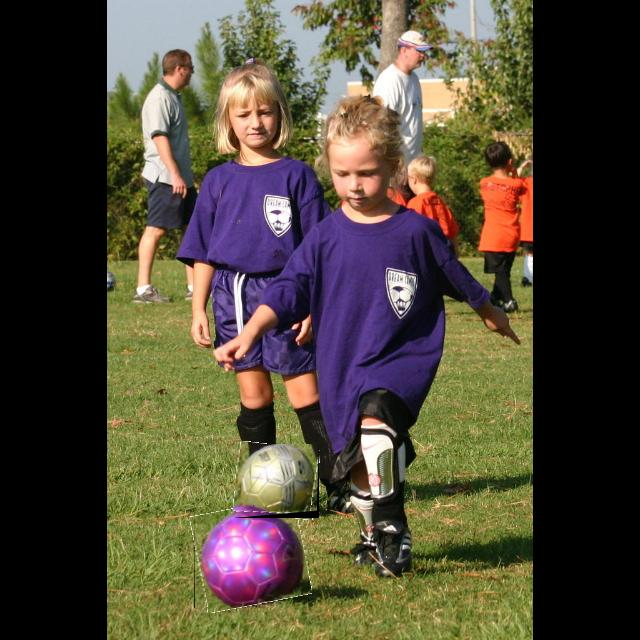Football: (194, 502, 308, 608), (235, 444, 319, 518)
